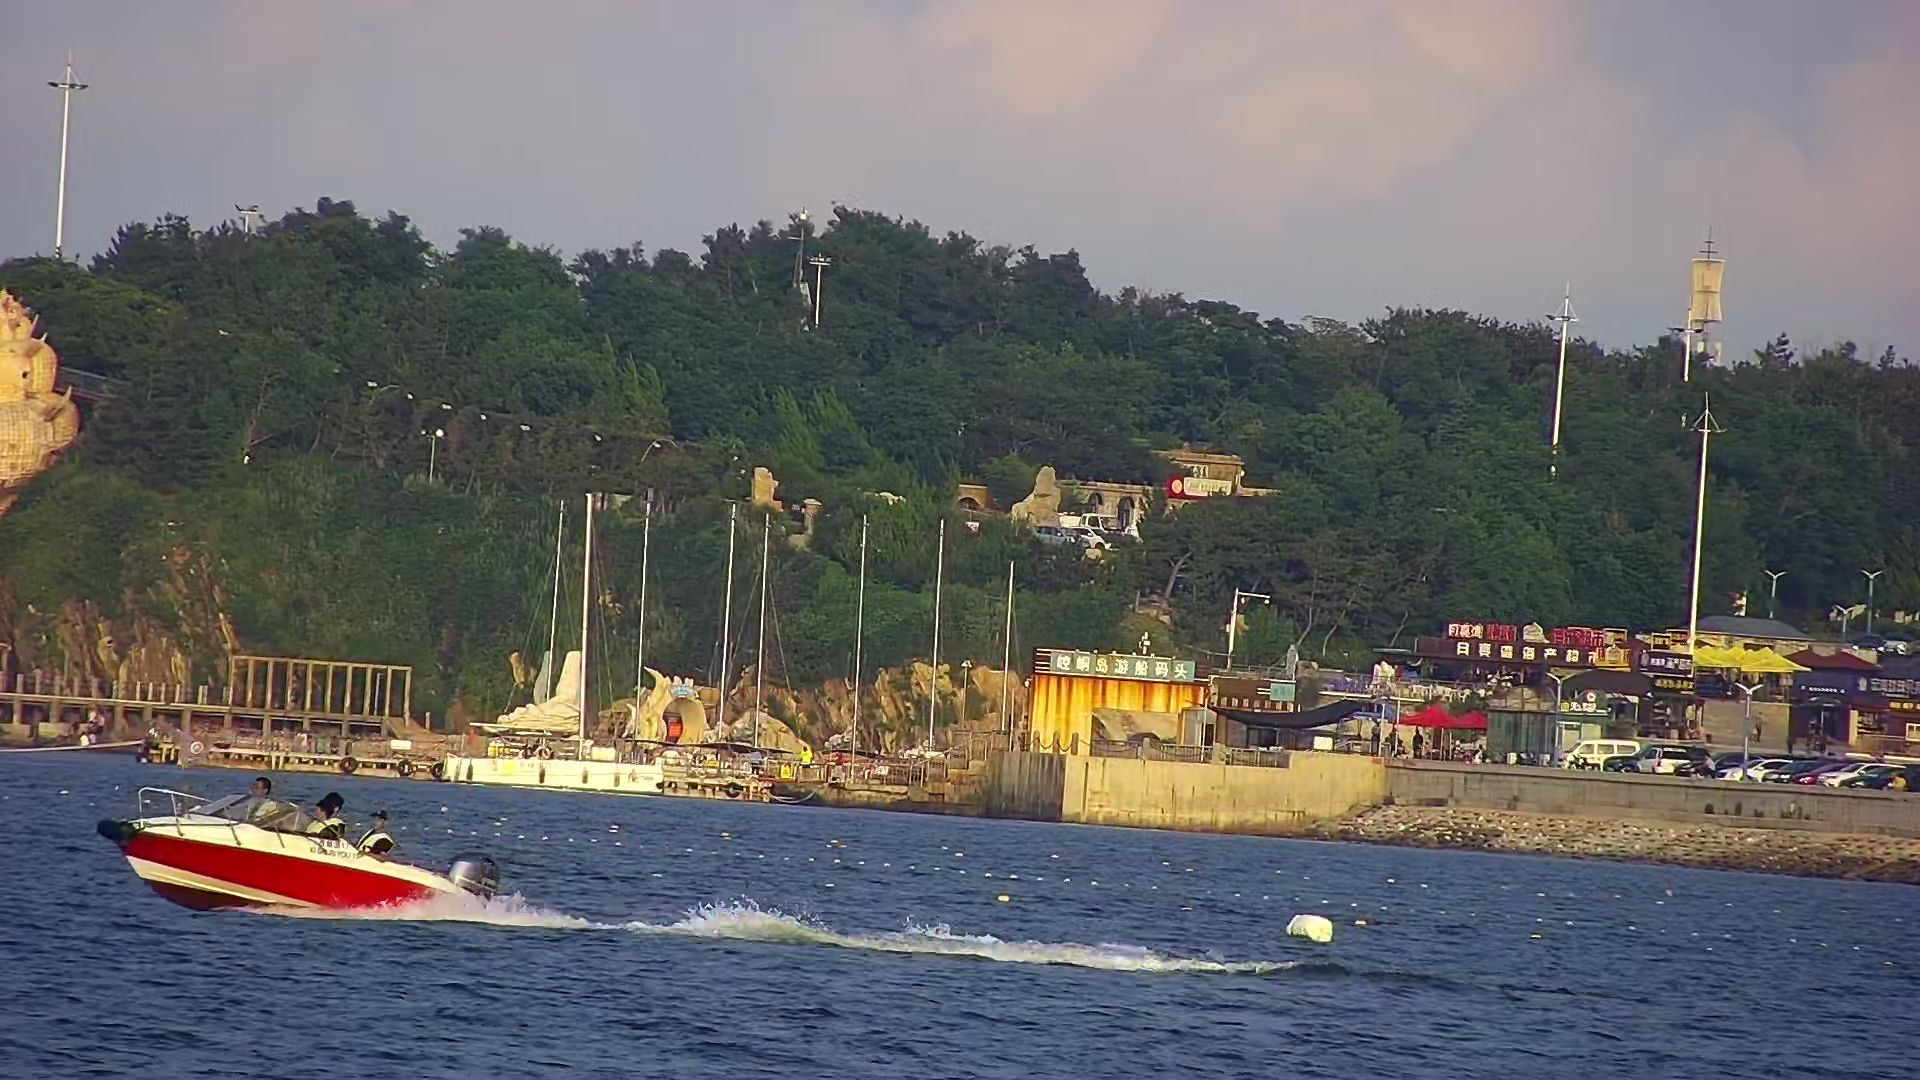boat: (109, 737, 510, 928)
rubbish: (1280, 903, 1346, 952)
